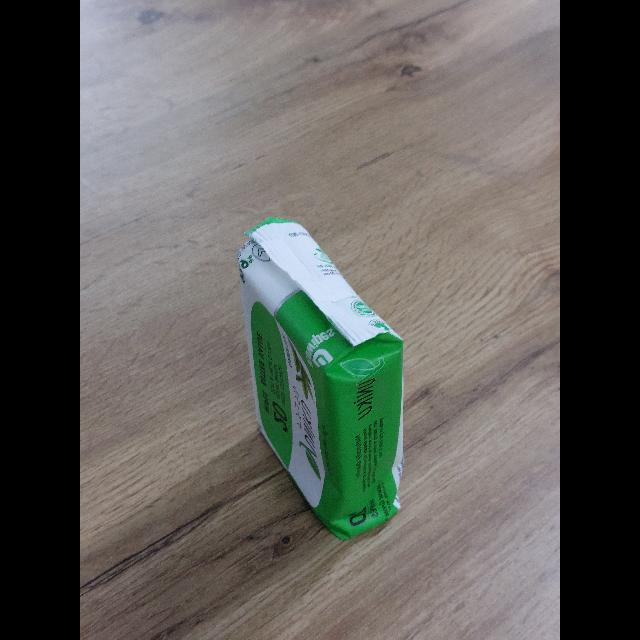khan_giay: (238, 218, 403, 539)
